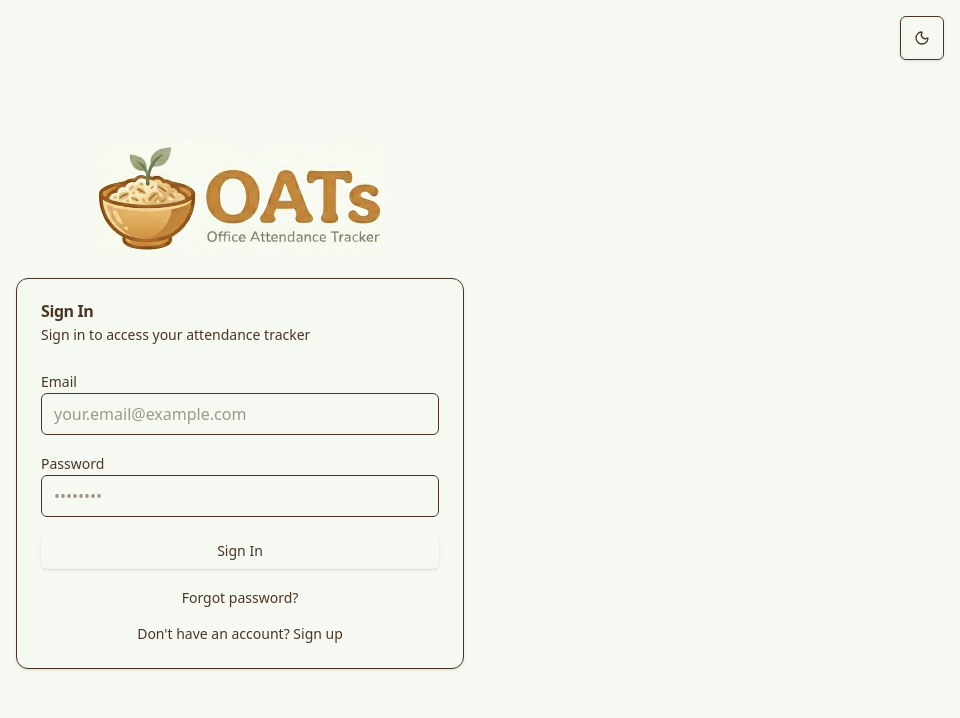
Test: LoginPage › Validation › should validate email format
Type "invalid-email" into the field labelled "Email" at (240, 414), box [41, 392, 439, 434]
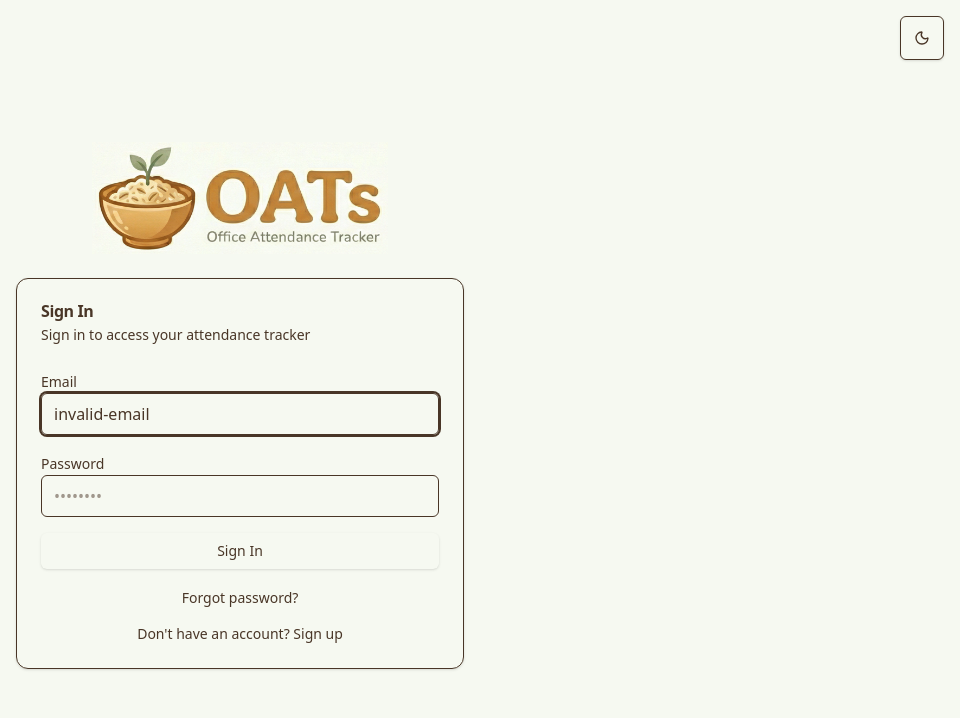
Type "password123" into the password field labelled "Password" at (240, 496), box [41, 474, 439, 516]
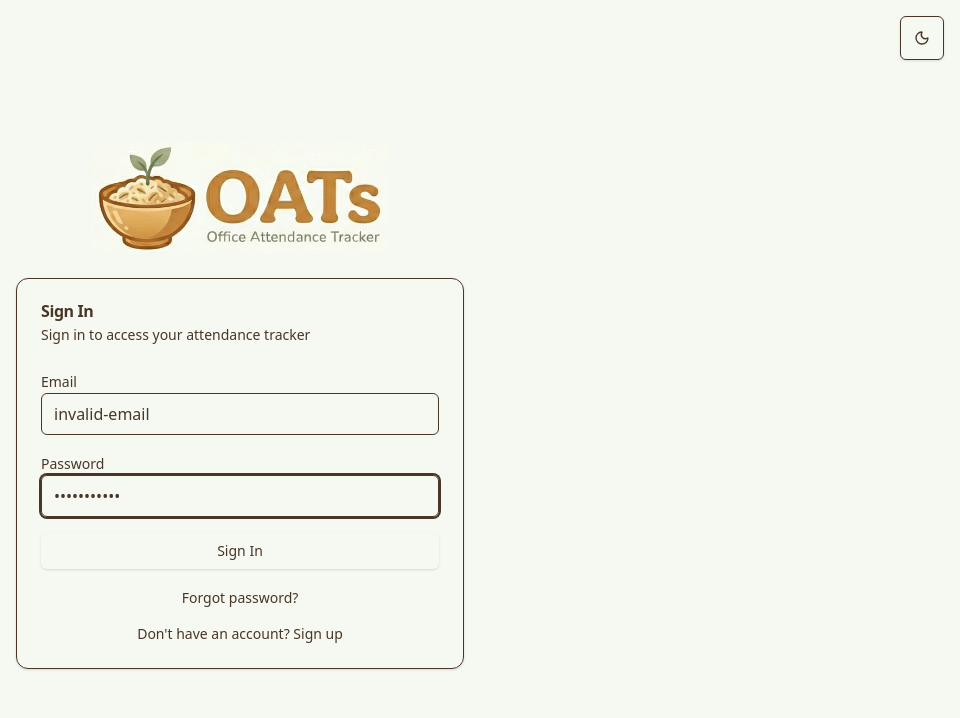
Click the button "Sign In" at (240, 550), box [41, 532, 439, 568]
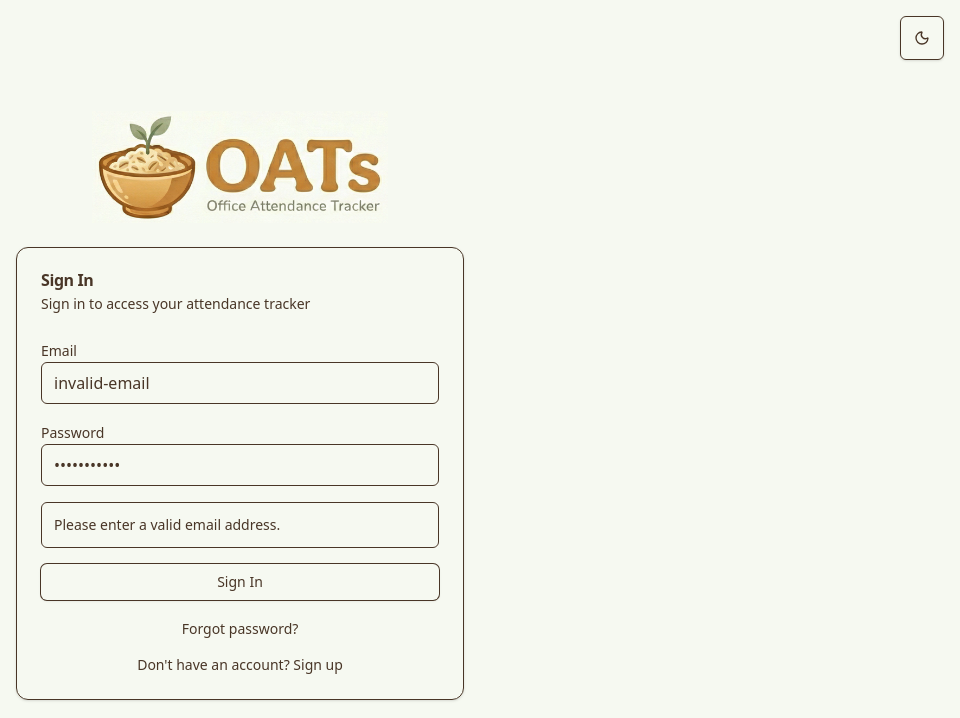
expect the text "Please enter a valid email address." is shown: met, box [41, 502, 439, 548]
